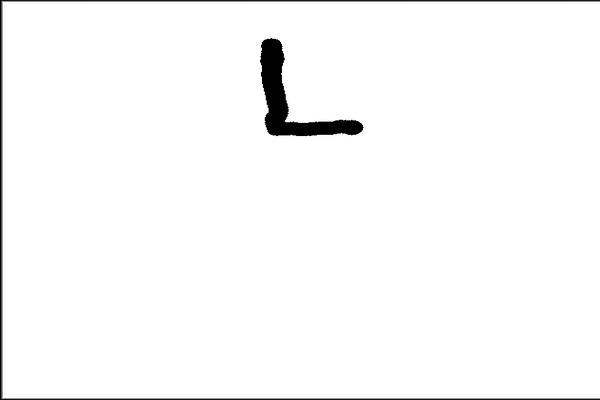L: (245, 30, 373, 144)
